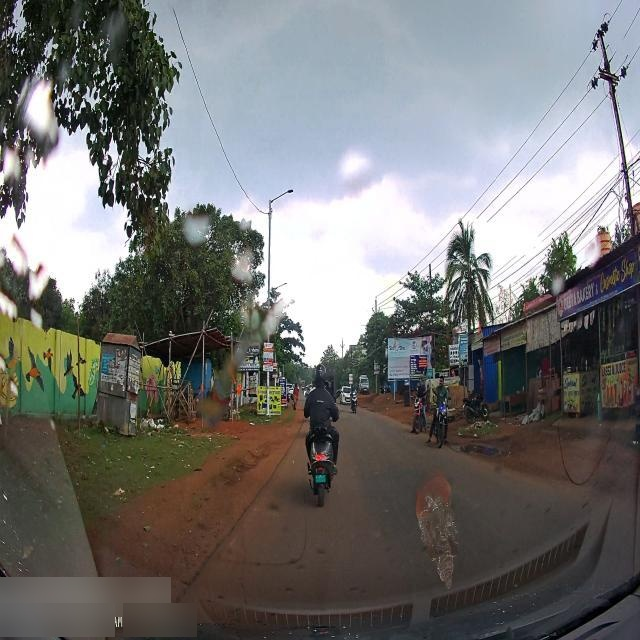pothole: (213, 428, 275, 501), (453, 435, 508, 463)
